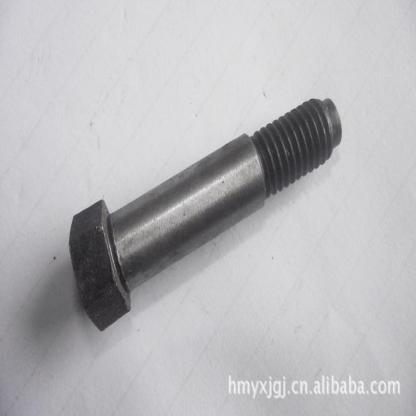FOD: (68, 95, 343, 334)
